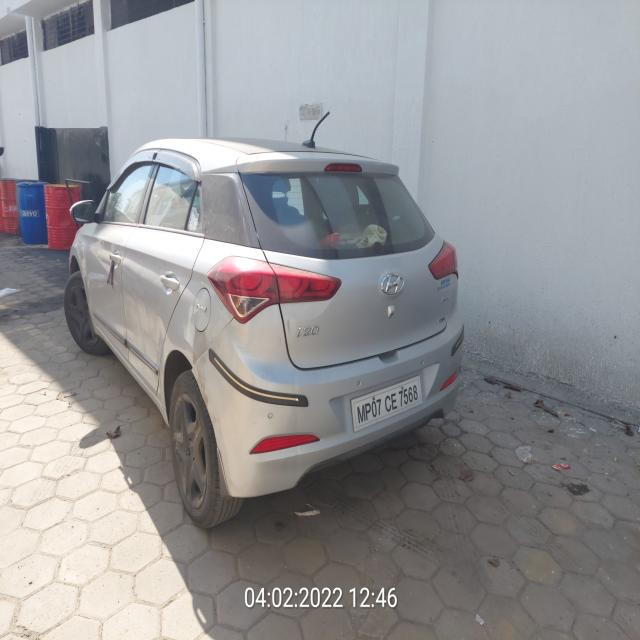damage: (190, 355, 214, 407), (289, 375, 300, 395), (284, 316, 293, 336)
